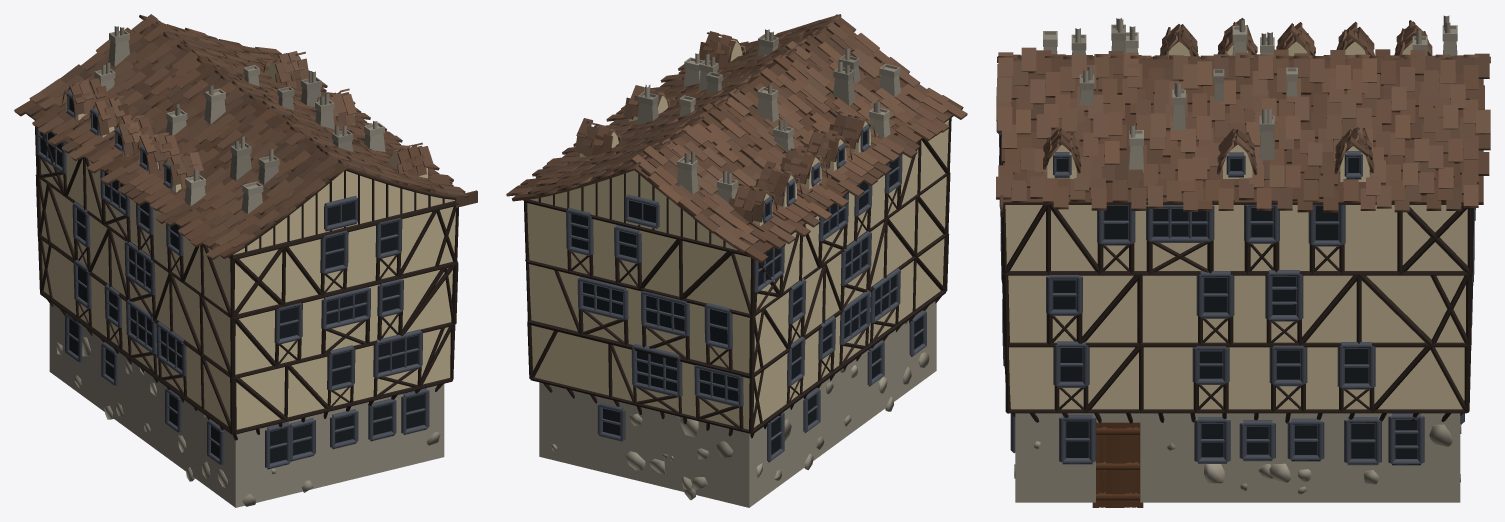
The model's file is house_07.glb.
3 renders of one model, left to right at view 1: azimuth 30°, elevation 25°; view 2: azimuth 150°, elevation 25°; view 3: azimuth 270°, elevation 25°, orthographic. The views are drawn at different scales.
Visible parts, largest first — view 1: house_07; view 2: house_07; view 3: house_07.
Boxes of the visible parts, x1=… form: house_07: x1=14, y1=14, x2=477, y2=507; house_07: x1=506, y1=14, x2=967, y2=507; house_07: x1=996, y1=15, x2=1490, y2=507.
Bounding box in the file's own units: 7.99 × 9.88 × 10.76.
